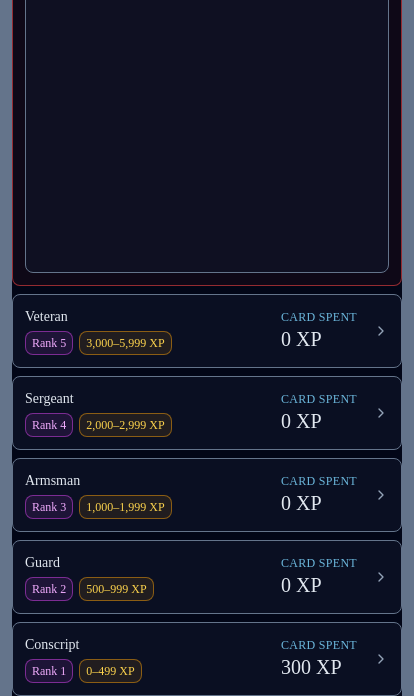
ExperienceTab named Career Rank ledger › shows career purchases when a previous Rank Card is expanded
(page scrolled)
Expected: the text "Awareness — Trained" is not shown
What coordinates should you click on to do the following:
click the button named "Expand Conscript Rank Card details"
I would click on:
 (207, 659)
Its box is x1=13 y1=623 x2=401 y2=695.
(page scrolled)
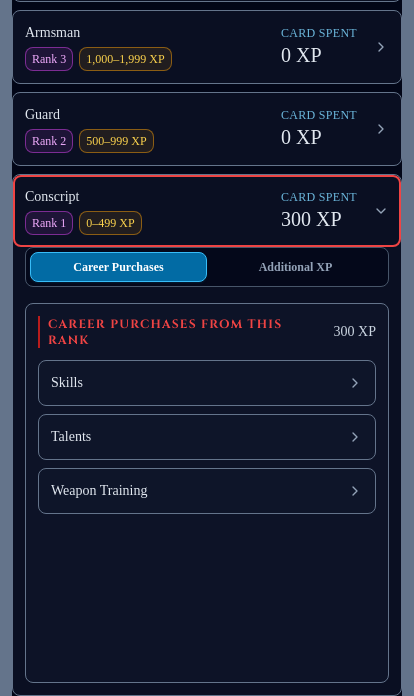
Expected: the heading "Career Purchases from This Rank" is shown, x1=38 y1=316 x2=326 y2=348
Expected: the text "Skills" is shown, x1=51 y1=373 x2=363 y2=393
Expected: the text "Talents" is shown, x1=51 y1=427 x2=363 y2=447
What coordinates should you click on to do the following:
click the button named "Expand Skills details"
I would click on:
 (207, 383)
Its box is x1=39 y1=361 x2=375 y2=405.
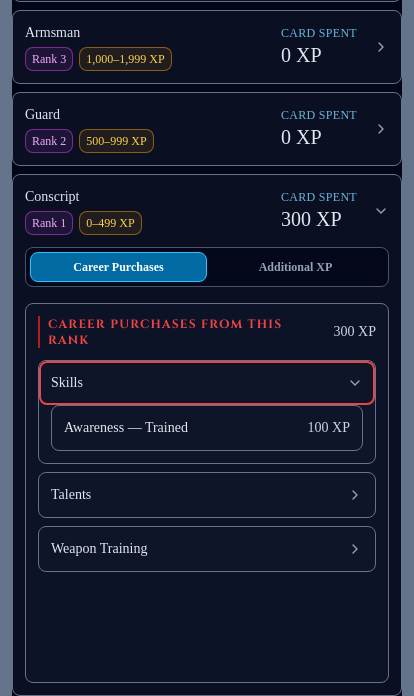
What coordinates should you click on to do the following:
click the button named "Expand Talents details"
I would click on:
 (207, 495)
Its box is x1=39 y1=473 x2=375 y2=517.
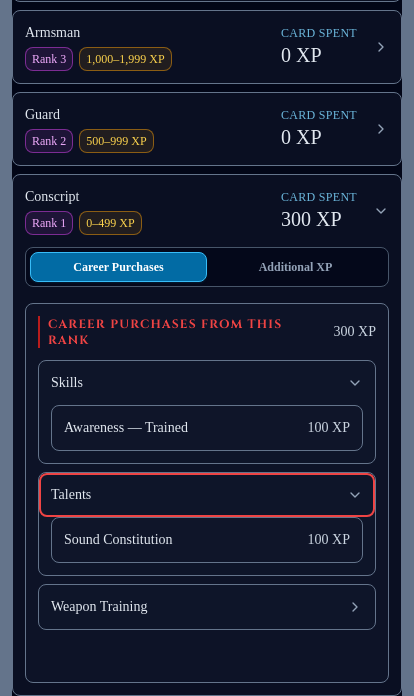
What coordinates should you click on to do the following:
click the button named "Expand Weapon Training details"
I would click on:
 (207, 607)
Its box is x1=39 y1=585 x2=375 y2=629.
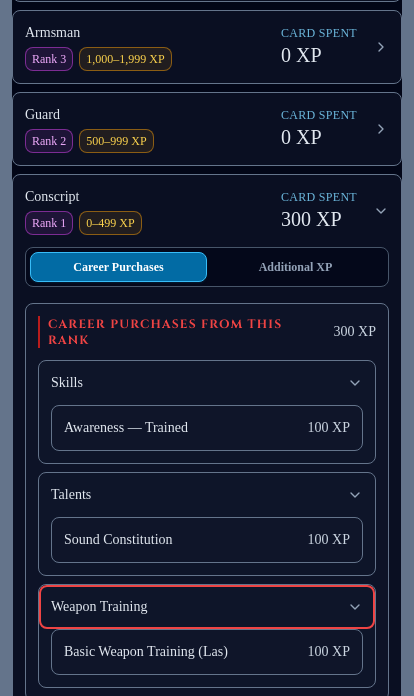
Expected: the text "Awareness — Trained" is shown, x1=64 y1=418 x2=188 y2=438
Expected: the text "Sound Constitution" is shown, x1=64 y1=530 x2=172 y2=550
Expected: the text "Basic Weapon Training (Las)" is shown, x1=64 y1=642 x2=228 y2=662
